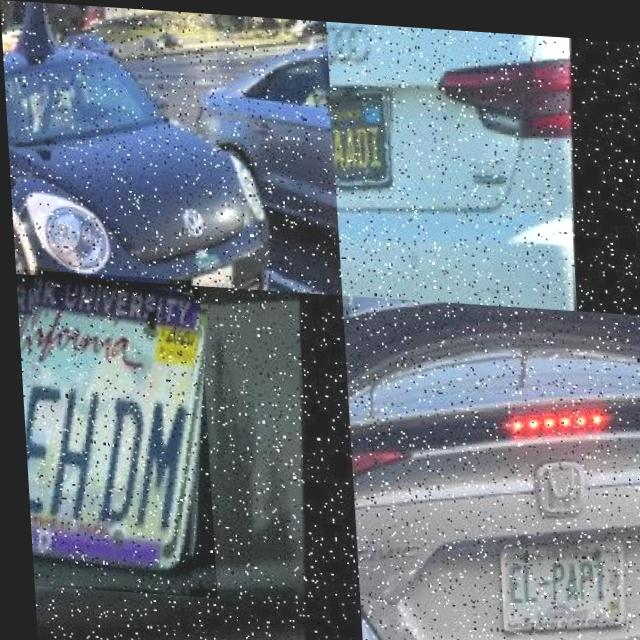LicensePlate: (13, 269, 210, 596), (498, 541, 622, 629), (327, 83, 398, 197)
